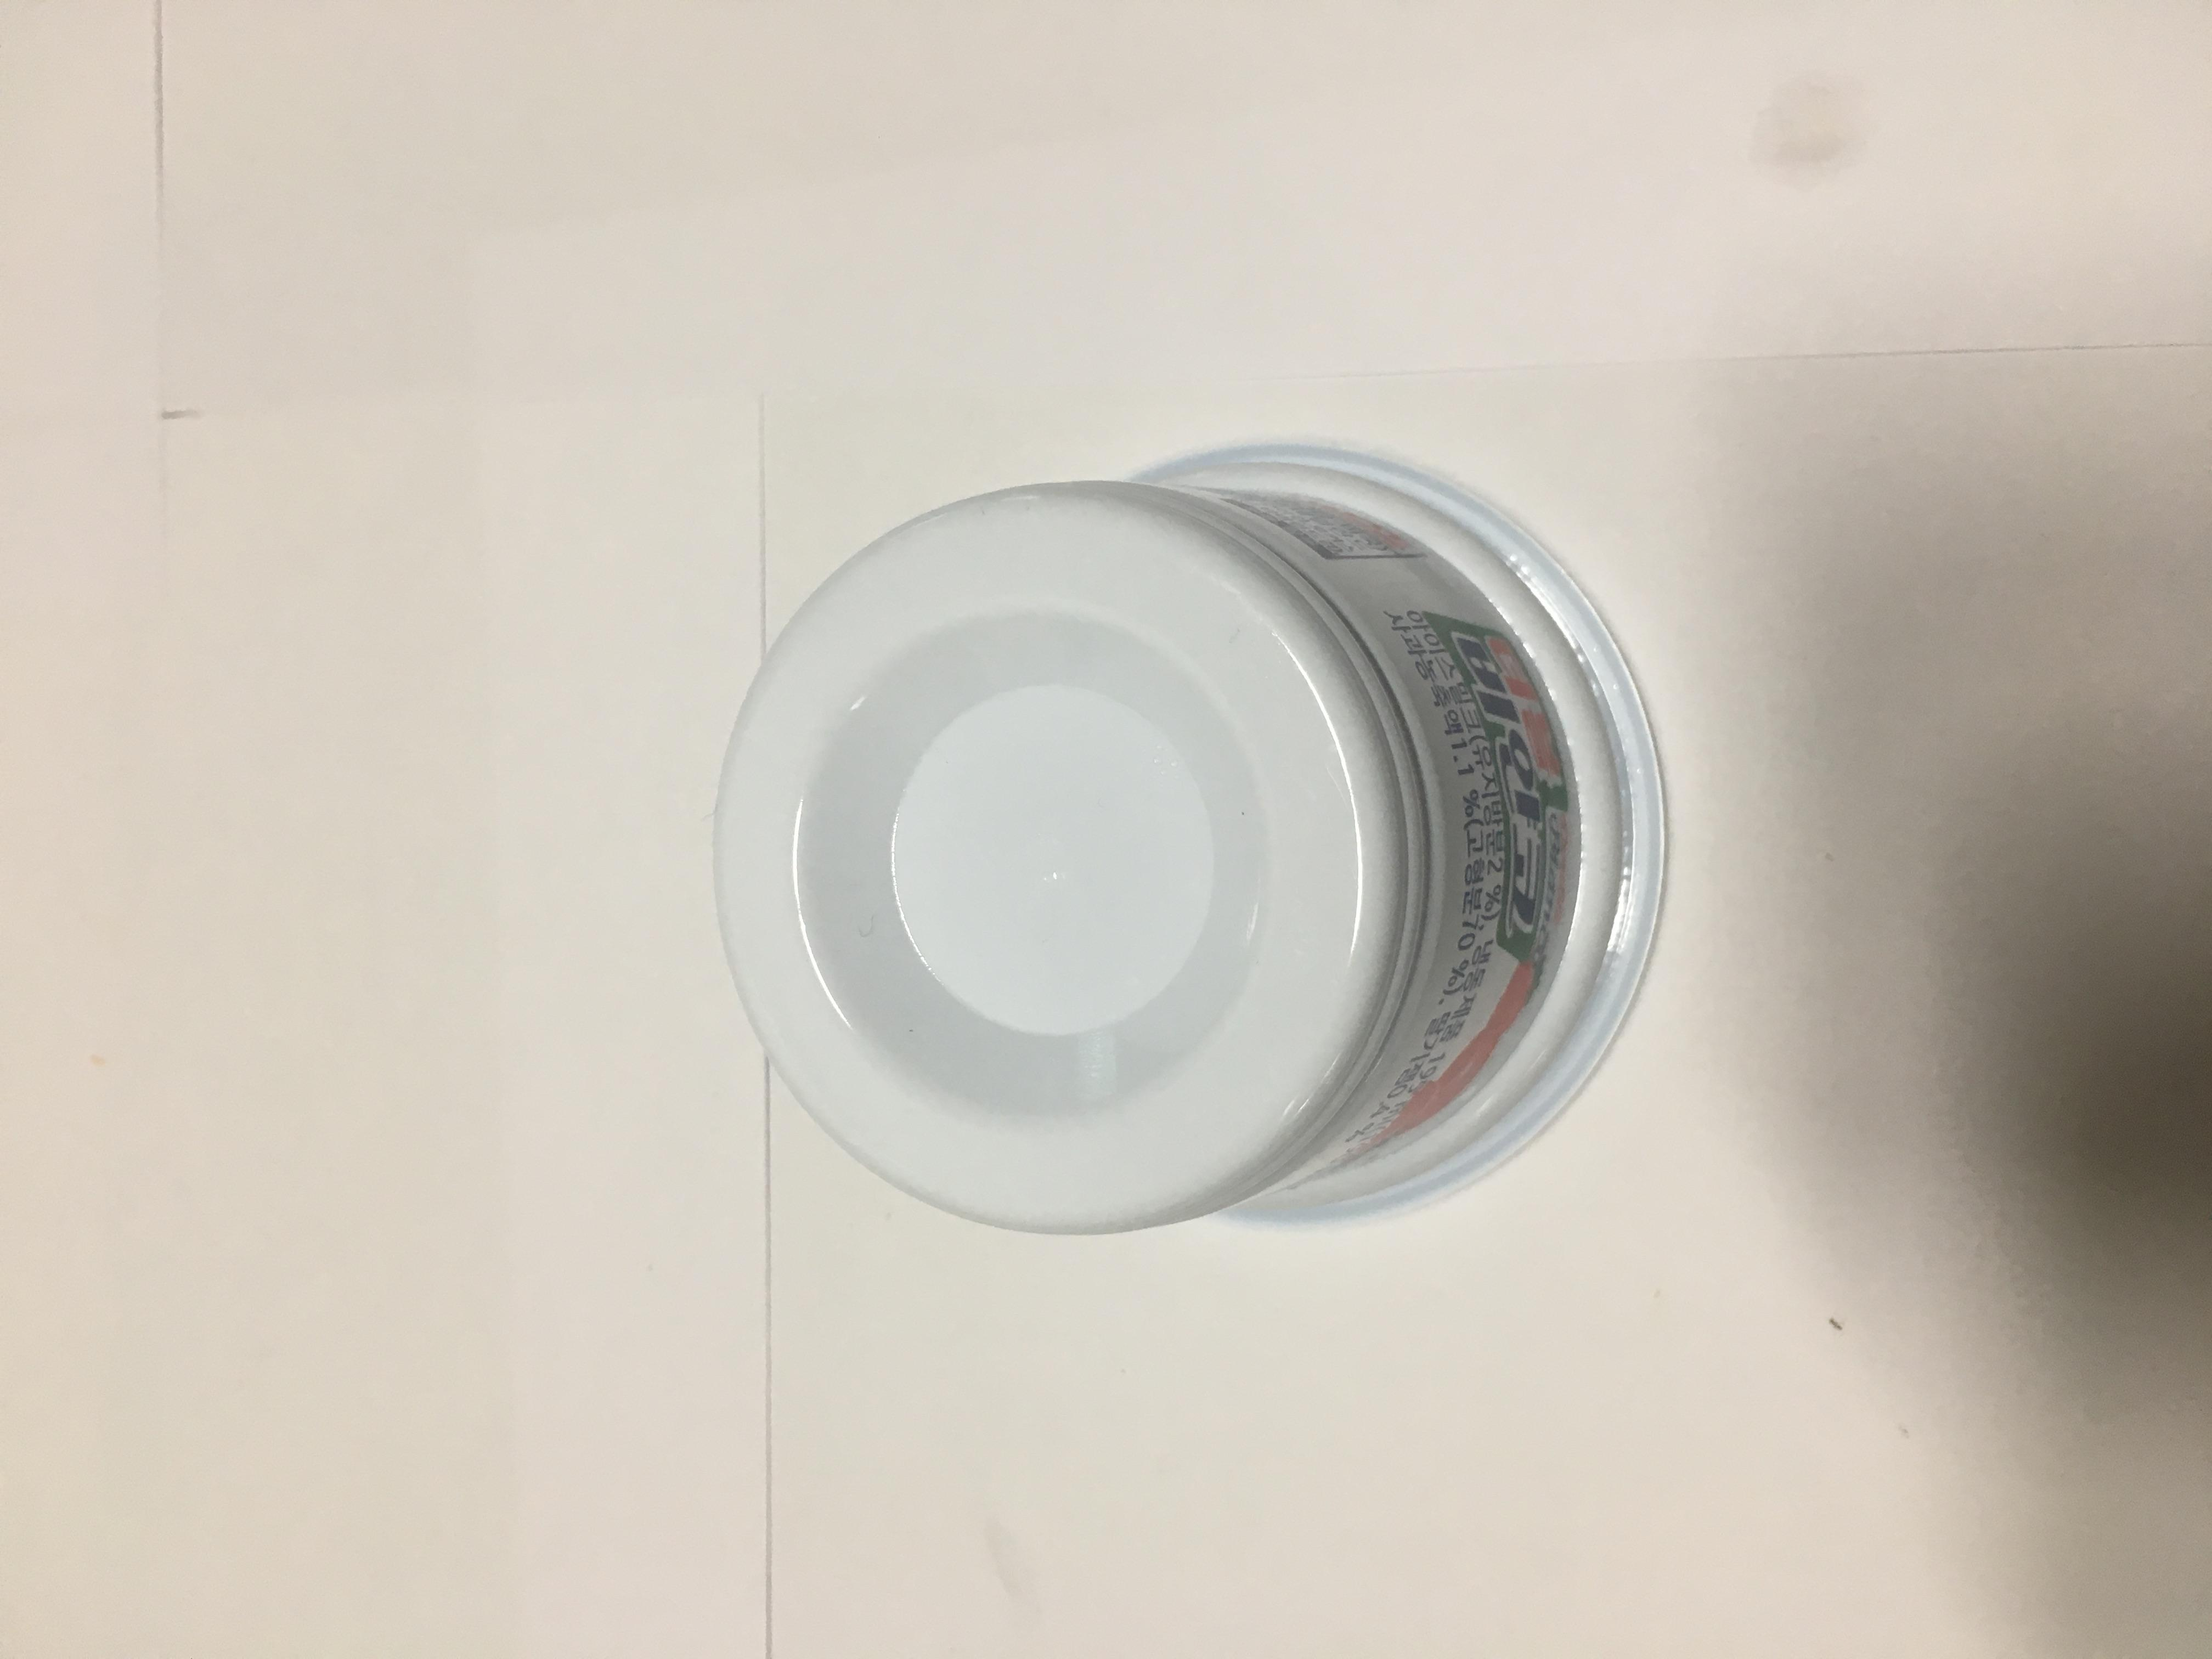bottle: (181, 542, 1620, 1272)
